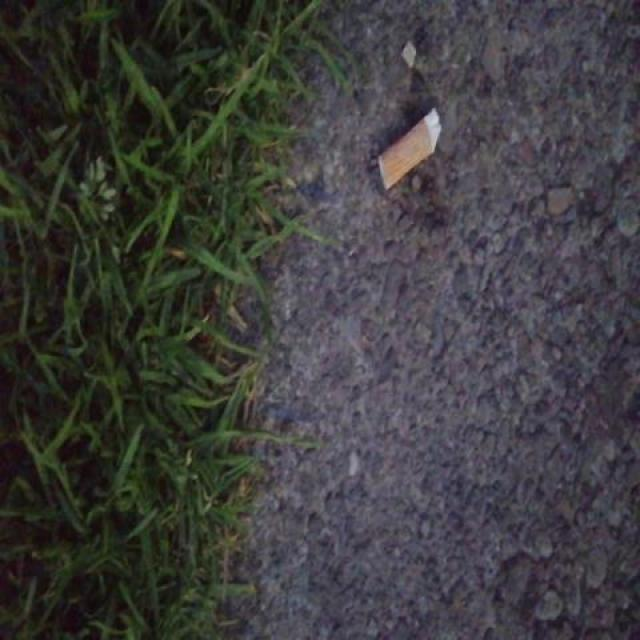non-organic waste: (375, 103, 445, 196)
